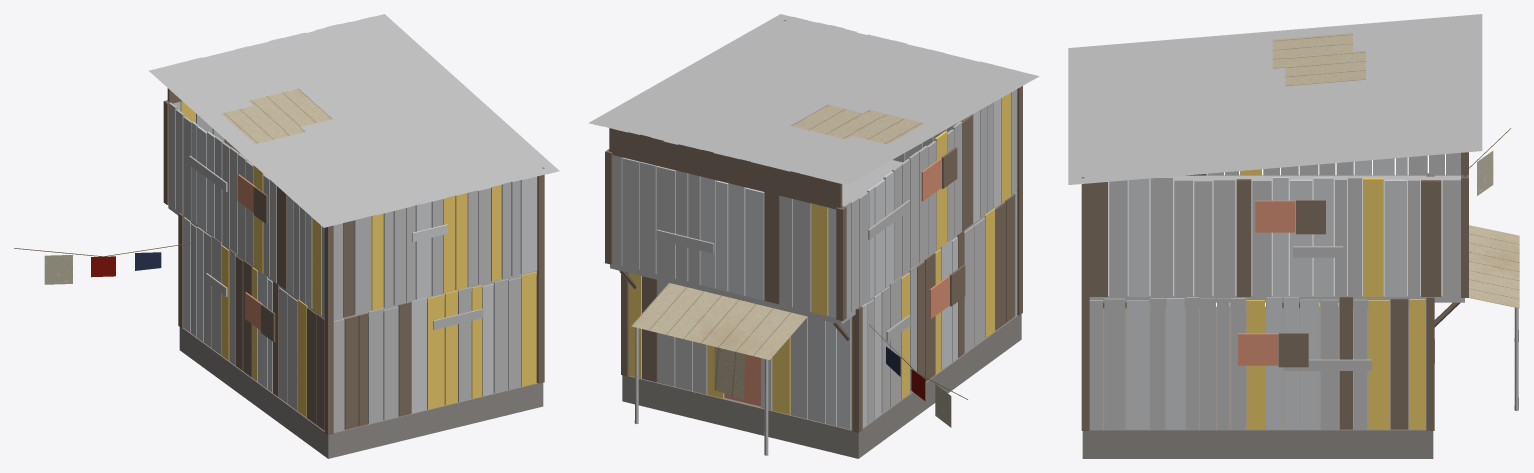
The model's file is SM_Art_Settlement_Shanty_2.gltf.
3 renders of one model, left to right at view 1: azimuth 30°, elevation 25°; view 2: azimuth 150°, elevation 25°; view 3: azimuth 270°, elevation 25°, orthographic. The views are drawn at different scales.
Visible parts, largest first — view 1: SM_Art_Settlement_Shanty_2; view 2: SM_Art_Settlement_Shanty_2; view 3: SM_Art_Settlement_Shanty_2.
Part boxes in pixels (left/top/right/bottom): SM_Art_Settlement_Shanty_2: left=14, top=14, right=559, bottom=458; SM_Art_Settlement_Shanty_2: left=588, top=14, right=1039, bottom=458; SM_Art_Settlement_Shanty_2: left=1068, top=14, right=1519, bottom=458.
Size of the model in its own units: 8.5 by 6.06 by 7.85.
